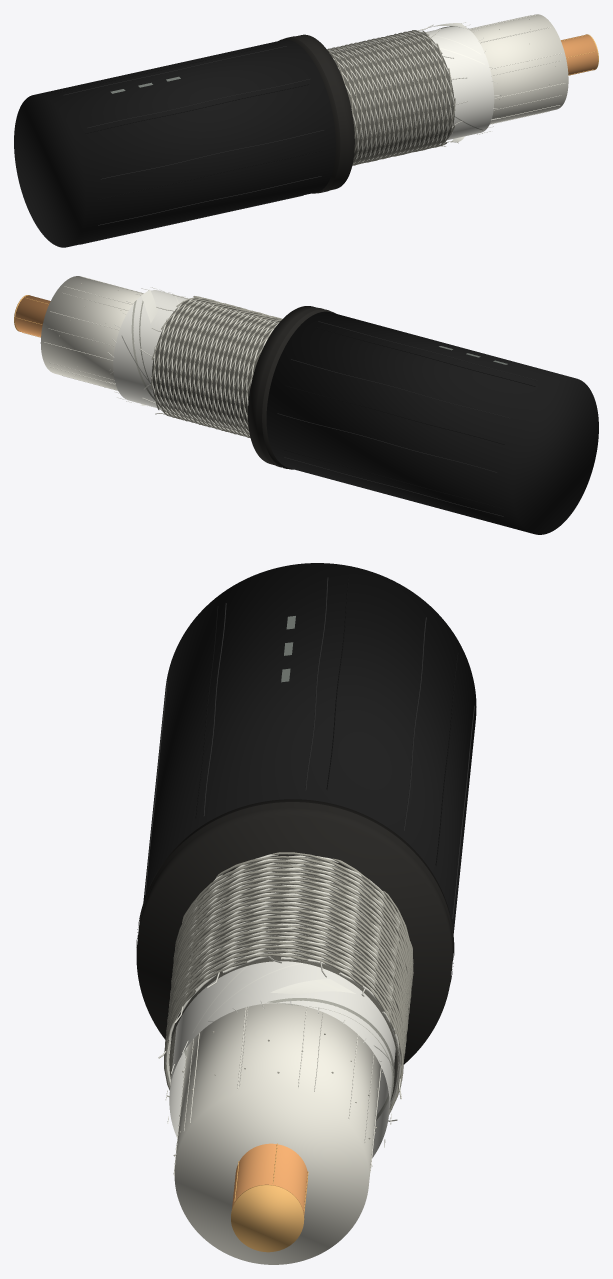
File: rf-lmr240-macro.glb
3 renders of one model, top to bottom at view 1: azimuth 30°, elevation 25°; view 2: azimuth 150°, elevation 25°; view 3: azimuth 270°, elevation 25°, orthographic. The views are drawn at different scales.
Parts seen in each view (by area): view 1: macro jacket body, shadow seen through braid windows, macro dielectric exposed core, continuous foil sleeve under braid, thick jacket cut wall, polished solid center conductor, rounded jacket cut lip, macro braid shadow carrier 07 strand 1, macro braid shadow carrier 05 strand 1, macro braid shadow carrier 06 strand 1, macro braid shadow carrier 08 strand 1, macro braid shadow carrier 04 strand 1 (+7 smaller); view 2: macro jacket body, macro dielectric exposed core, shadow seen through braid windows, continuous foil sleeve under braid, thick jacket cut wall, rounded jacket cut lip, polished solid center conductor, macro braid shadow carrier 02 strand 1, macro braid shadow carrier 03 strand 1, macro braid shadow carrier 04 strand 1, macro braid shadow carrier 01 strand 1, macro braid shadow carrier 12 strand 1 (+7 smaller); view 3: macro jacket body, macro dielectric exposed core, thick jacket cut wall, continuous foil sleeve under braid, shadow seen through braid windows, polished conductor cut face glow, polished solid center conductor, rounded jacket cut lip, macro braid shadow carrier 05 strand 2, macro braid shadow carrier 10 strand 2, macro braid shadow carrier 11 strand 2, macro braid shadow carrier 07 strand 2 (+8 smaller).
Part boxes in pixels (x1,y1,x2,y2): macro jacket body: (14, 39, 335, 247); shadow seen through braid windows: (331, 32, 454, 161); macro dielectric exposed core: (469, 14, 568, 124); continuous foil sleeve under braid: (425, 26, 494, 140); thick jacket cut wall: (279, 34, 354, 193); polished solid center conductor: (561, 34, 597, 75); rounded jacket cut lip: (284, 36, 346, 193); macro braid shadow carrier 07 strand 1: (357, 30, 437, 164); macro braid shadow carrier 05 strand 1: (349, 31, 428, 165); macro braid shadow carrier 06 strand 1: (354, 31, 433, 165); macro braid shadow carrier 08 strand 1: (362, 30, 442, 163); macro braid shadow carrier 04 strand 1: (345, 33, 424, 163); macro jacket body: (266, 311, 598, 534); macro dielectric exposed core: (40, 276, 142, 390); shadow seen through braid windows: (151, 299, 280, 434); continuous foil sleeve under braid: (113, 290, 187, 407); thick jacket cut wall: (248, 306, 335, 469); rounded jacket cut lip: (256, 307, 330, 468); polished solid center conductor: (15, 295, 50, 336); macro braid shadow carrier 02 strand 1: (164, 304, 281, 432); macro braid shadow carrier 03 strand 1: (159, 303, 279, 430); macro braid shadow carrier 04 strand 1: (155, 302, 277, 429); macro braid shadow carrier 01 strand 1: (168, 305, 281, 432); macro braid shadow carrier 12 strand 1: (173, 306, 279, 434); macro jacket body: (143, 563, 476, 933); macro dielectric exposed core: (174, 1003, 380, 1264); thick jacket cut wall: (136, 799, 453, 1064); continuous foil sleeve under braid: (169, 961, 395, 1157); shadow seen through braid windows: (169, 858, 398, 1101); polished conductor cut face glow: (231, 1184, 304, 1252); polished solid center conductor: (232, 1143, 307, 1216); rounded jacket cut lip: (136, 802, 454, 982); macro braid shadow carrier 05 strand 2: (167, 890, 413, 1086); macro braid shadow carrier 10 strand 2: (165, 860, 411, 1044); macro braid shadow carrier 11 strand 2: (164, 865, 411, 1090); macro braid shadow carrier 07 strand 2: (168, 858, 413, 1024).
Size of the model in its own units: 6.47 by 1.68 by 1.79.
